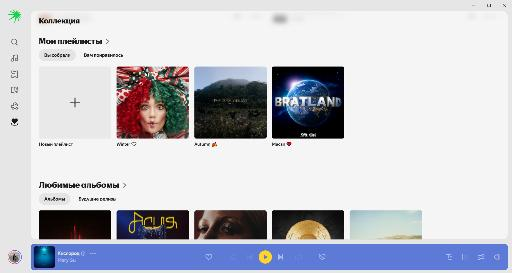yandexmusic: (2, 0, 512, 273)
